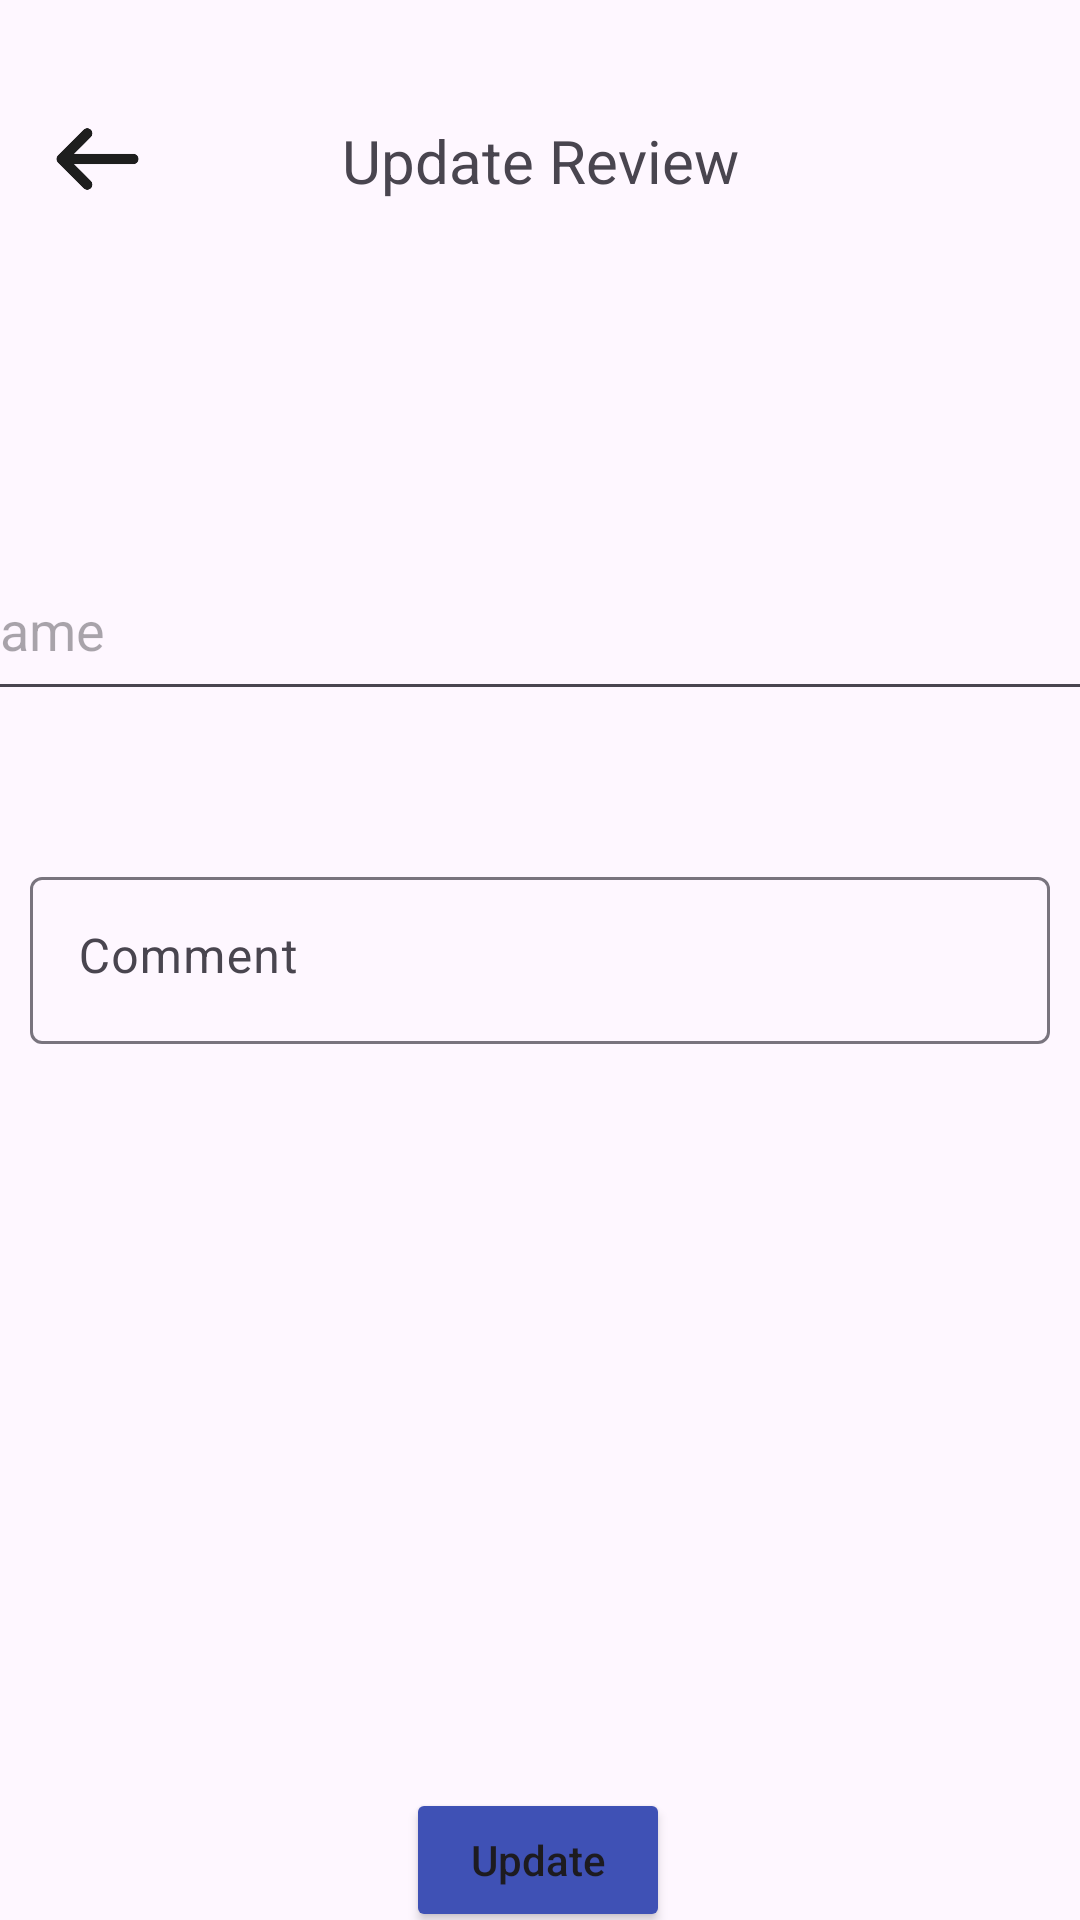

Screen size 1080 x 1920. Icon name, then its box in pixels as (x1=x1, y1=y1, x2=x2, y2=y2):
back arrow: (x1=56, y1=128, x2=139, y2=190)
